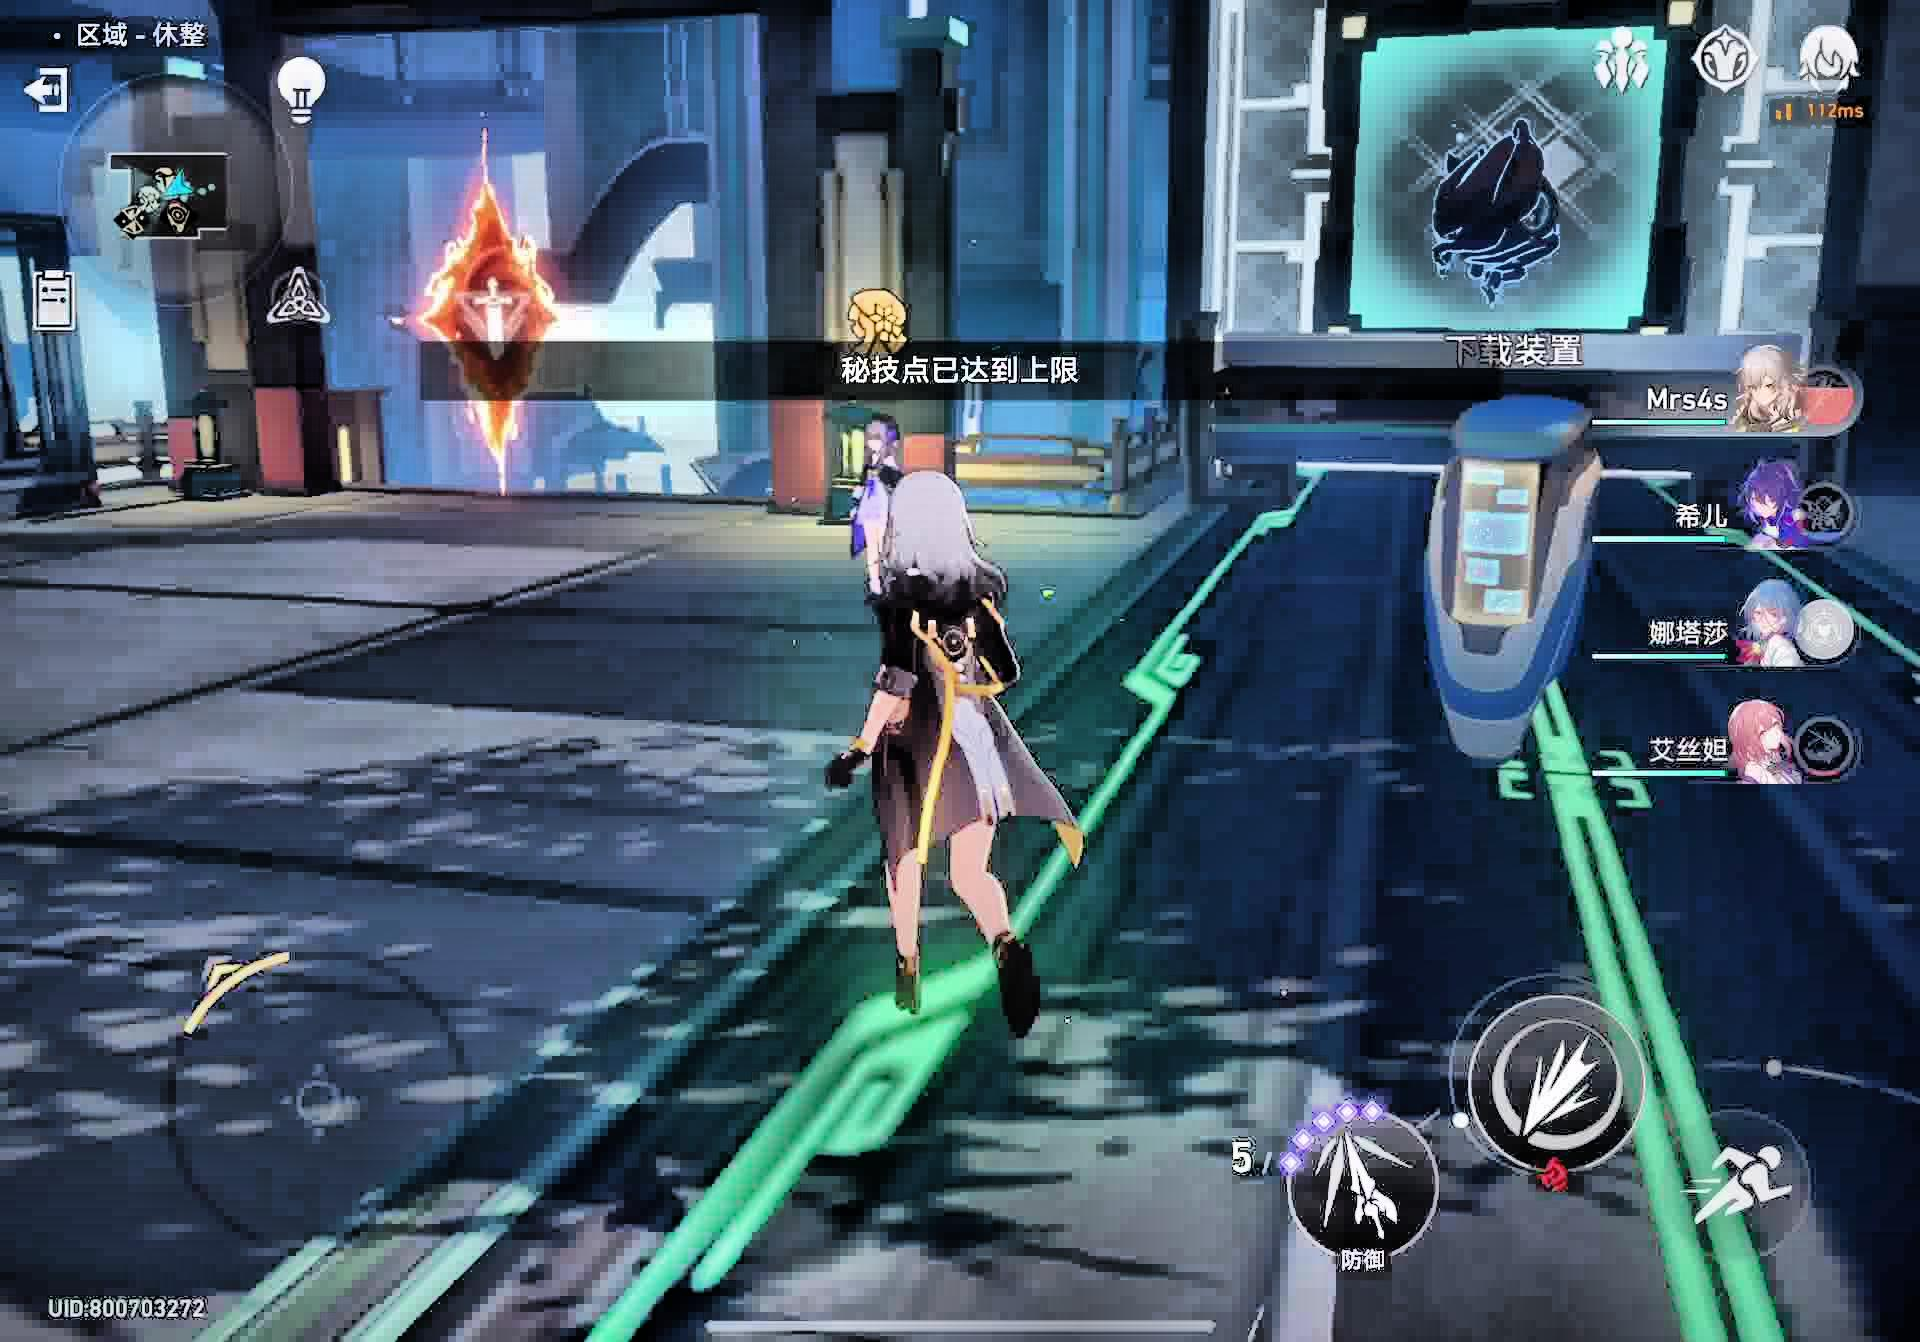BattleDoor: (409, 177, 585, 506)
Self: (832, 480, 1110, 1039)
TeamMate: (846, 410, 900, 598)
